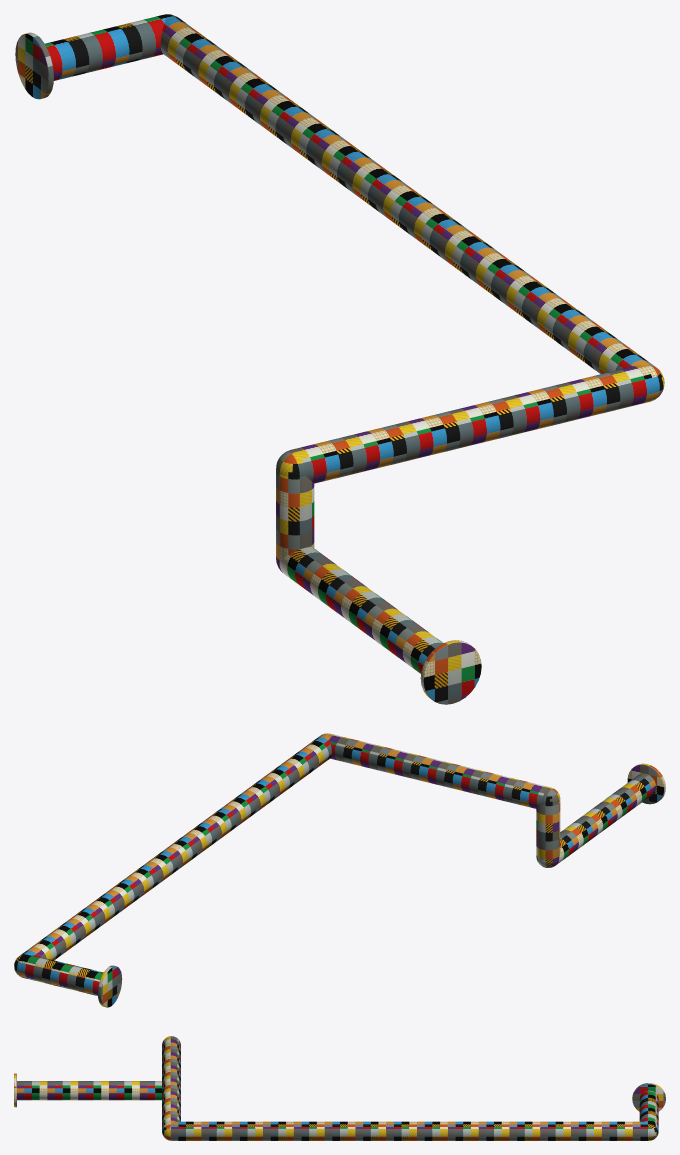
File: PreheaterAutoclave_Pipe.fbx
3 views of the same model, one above another, from view 1: azimuth 30°, elevation 25°; view 2: azimuth 150°, elevation 25°; view 3: azimuth 270°, elevation 25° (orthographic). The views are drawn at different scales.
Parts seen in each view (by area): view 1: PreHeaterAutoclave_PipeMesh; view 2: PreHeaterAutoclave_PipeMesh; view 3: PreHeaterAutoclave_PipeMesh.
Part boxes in pixels (bbox=[...]): PreHeaterAutoclave_PipeMesh: bbox=[15, 14, 664, 704]; PreHeaterAutoclave_PipeMesh: bbox=[14, 733, 665, 1007]; PreHeaterAutoclave_PipeMesh: bbox=[14, 1036, 665, 1140].
Size of the model in its own units: 11.87 by 4.32 by 33.87.
